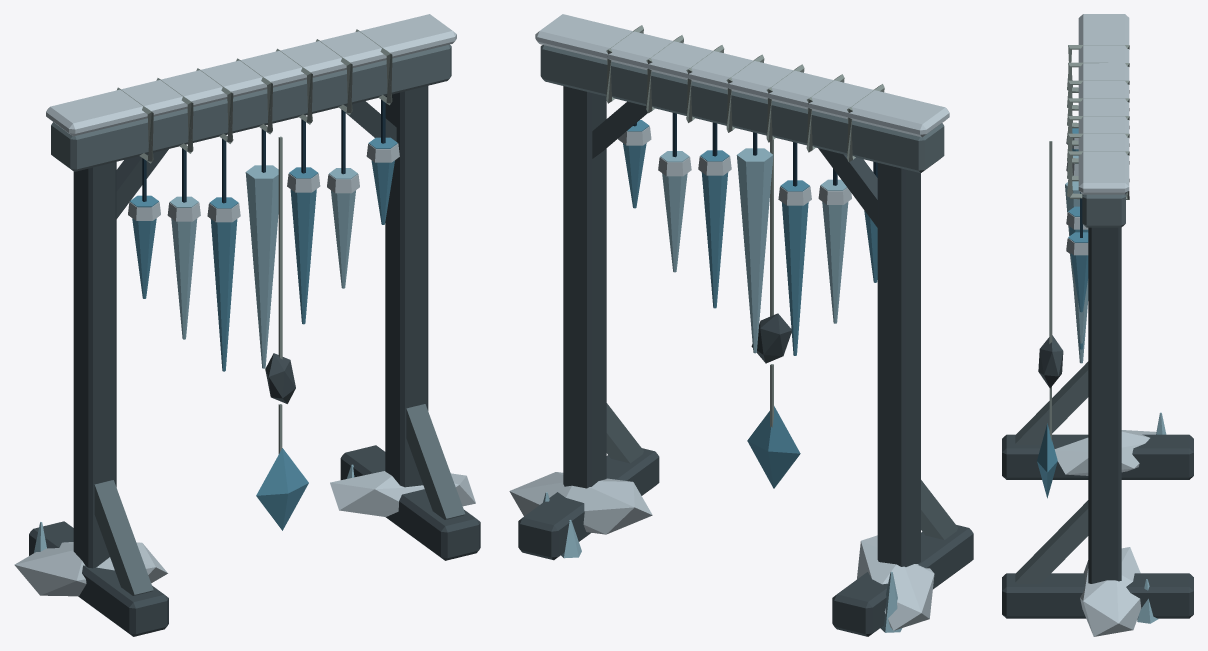
Rendered from Icy_Wind_Chime.glb.
3 views of the same model, side by side, from view 1: azimuth 30°, elevation 25°; view 2: azimuth 150°, elevation 25°; view 3: azimuth 270°, elevation 25° (orthographic). The views are drawn at different scales.
Parts seen in each view (by area): view 1: Icy_Wind_Chime; view 2: Icy_Wind_Chime; view 3: Icy_Wind_Chime.
Part boxes in pixels (<box>): Icy_Wind_Chime: <box>14,14,480,636</box>; Icy_Wind_Chime: <box>509,14,973,636</box>; Icy_Wind_Chime: <box>1002,14,1193,636</box>.
Bounding box in the file's own units: 2.6 × 2.82 × 1.1.
